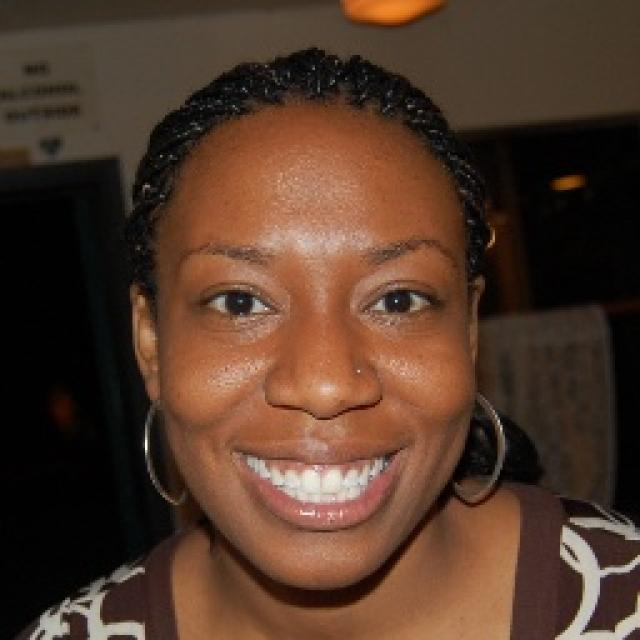earlobe: (139, 354, 167, 407)
eye: (197, 284, 278, 322), (360, 284, 437, 318)
nose: (262, 392, 385, 459)
wholeear: (127, 279, 169, 406)
